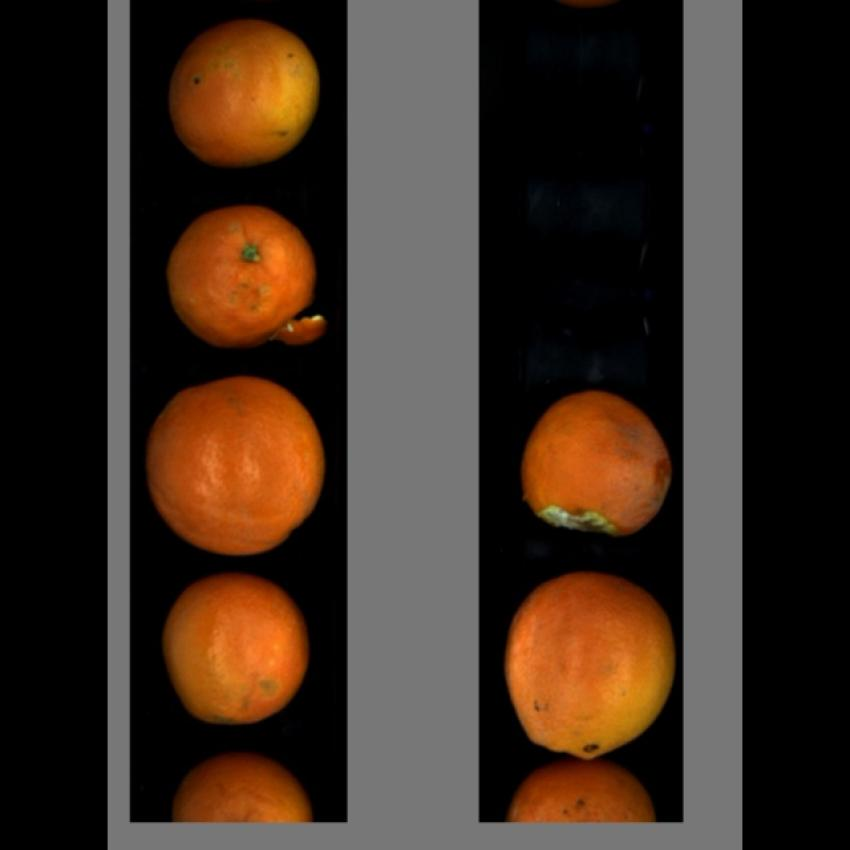Buen estado: (498, 570, 678, 755), (146, 379, 322, 558), (159, 576, 318, 727), (158, 26, 320, 170), (169, 756, 321, 824)
Mal estado: (164, 202, 328, 350), (523, 380, 670, 541), (508, 760, 657, 824)
